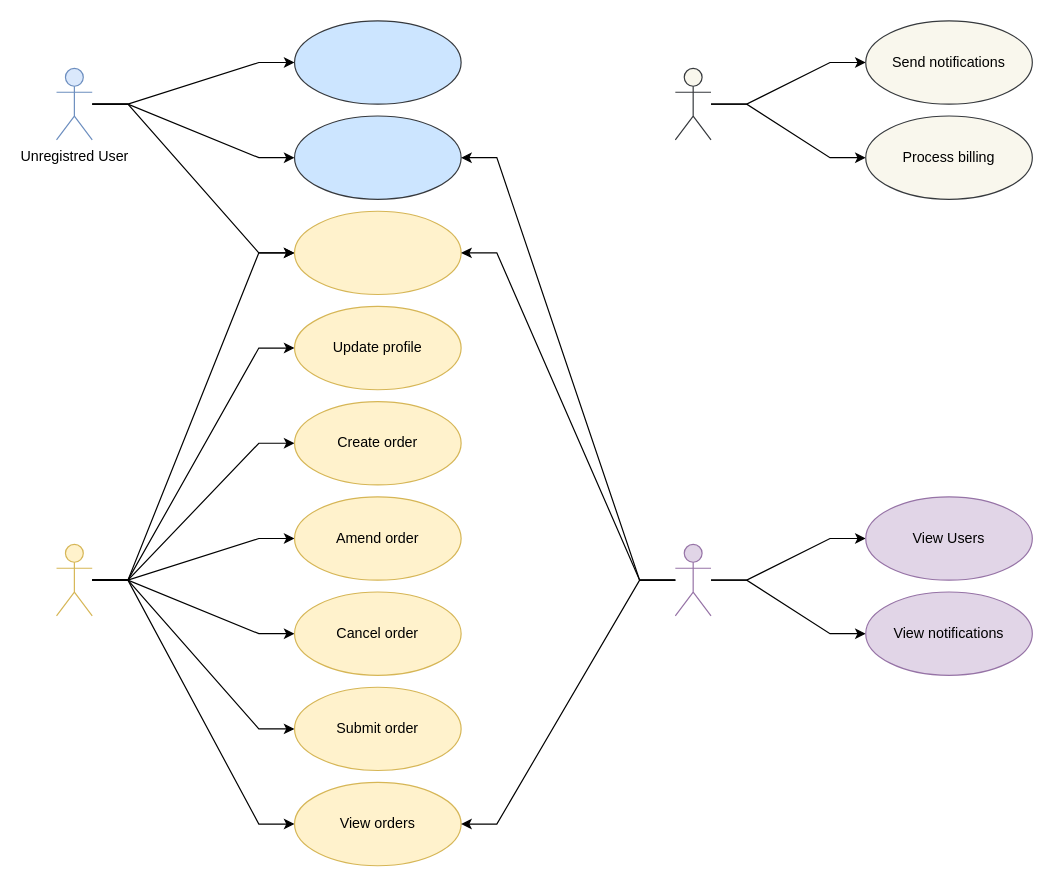
Image size: 1053x887. Some labels were removed from this diagram. Here are the shapes that lost their labels. From the top down, the centre of each, then its label:
At [377,62]: "Register".
At [692,103]: "<<system>>".
At [377,157]: "Login".
At [377,252]: "Browse catalog".
At [73,579]: "Registered User".
At [692,579]: "Administrator".
